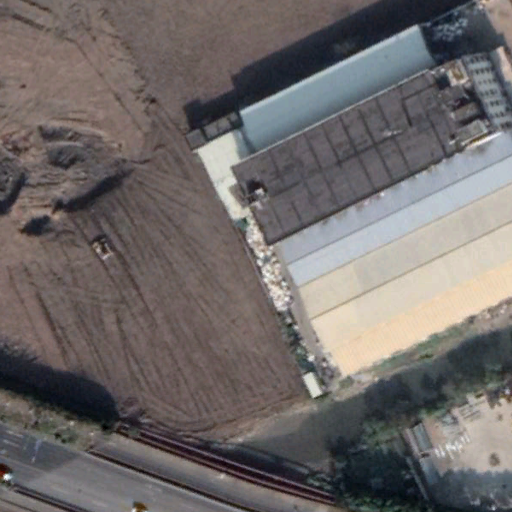msw: (237, 221, 296, 314)
